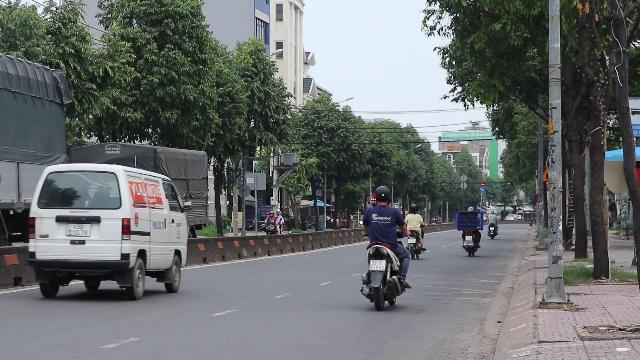helmet: (373, 185, 391, 204)
licenseplate: (370, 260, 386, 270)
motorcyclist: (358, 184, 412, 308)
